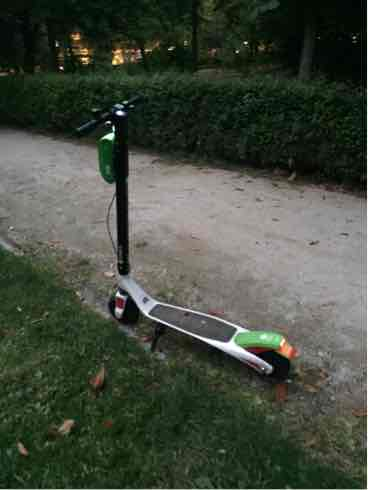scooter: (71, 90, 298, 380)
